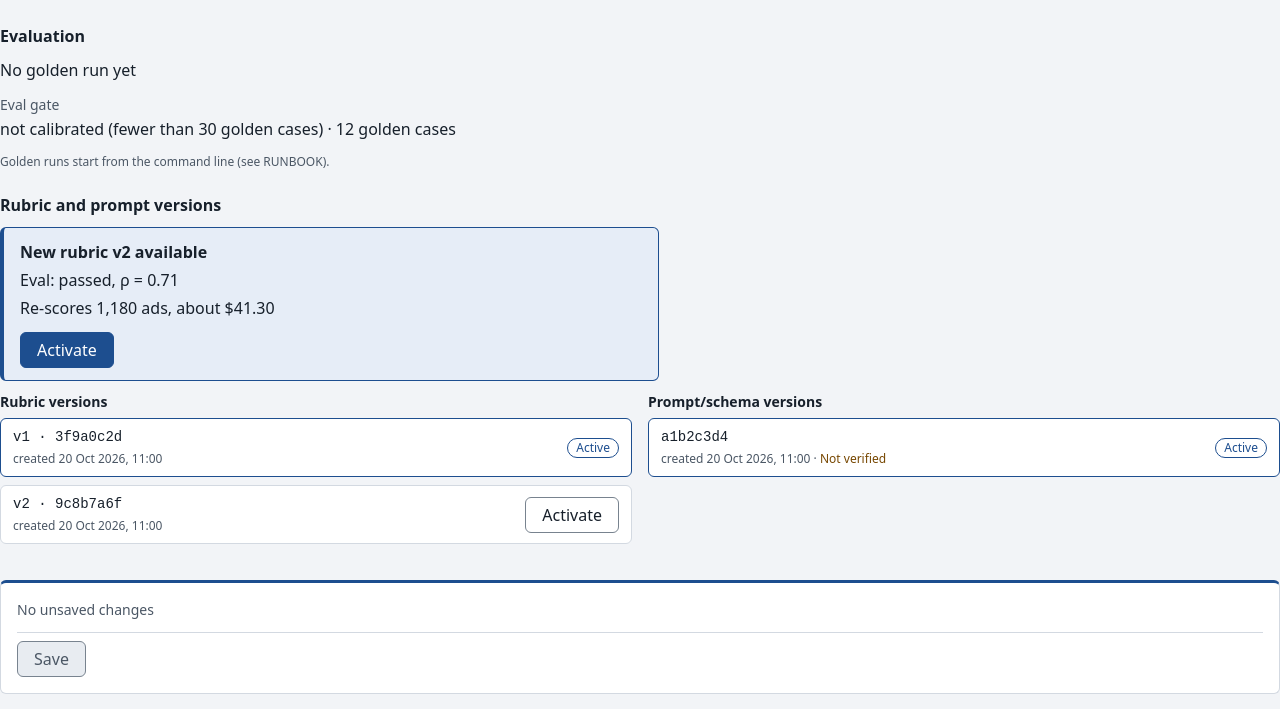
VersionsPanel › Activate shows the preview and posts a keyed activation with the ack
The image size is (1280, 709).
(page scrolled)
Click the button with aria-label "Activate rubric v2" at (67, 350), box [20,332,114,368]
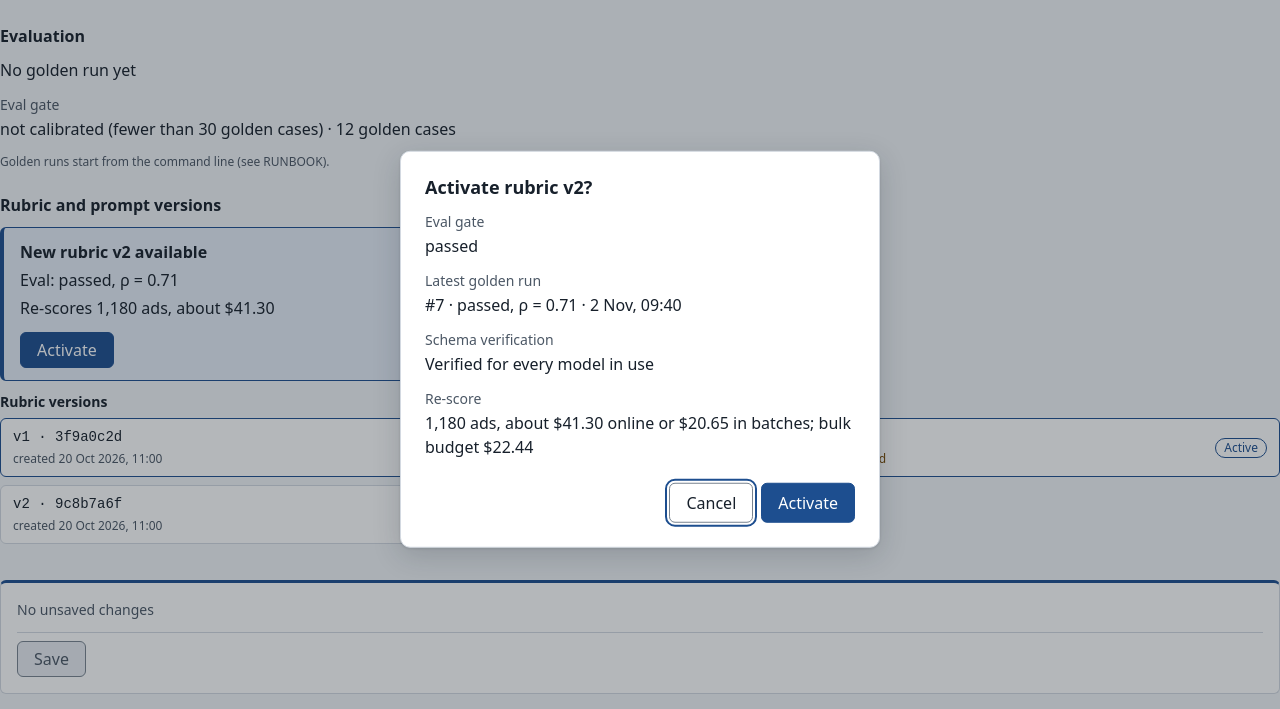
expect the dialog "Activate rubric v2?" shows "1,180 ads, about $41.30 online or $20.65 in batches; bulk budget $22.44": met, box [425,411,851,457]
expect the dialog "Activate rubric v2?" shows "passed": met, box [425,234,478,256]
expect the dialog "Activate rubric v2?" shows "#7 · passed, ρ = 0.71": met, box [425,293,682,315]
Click the button "Activate" at (808, 502), box [761,482,855,522]
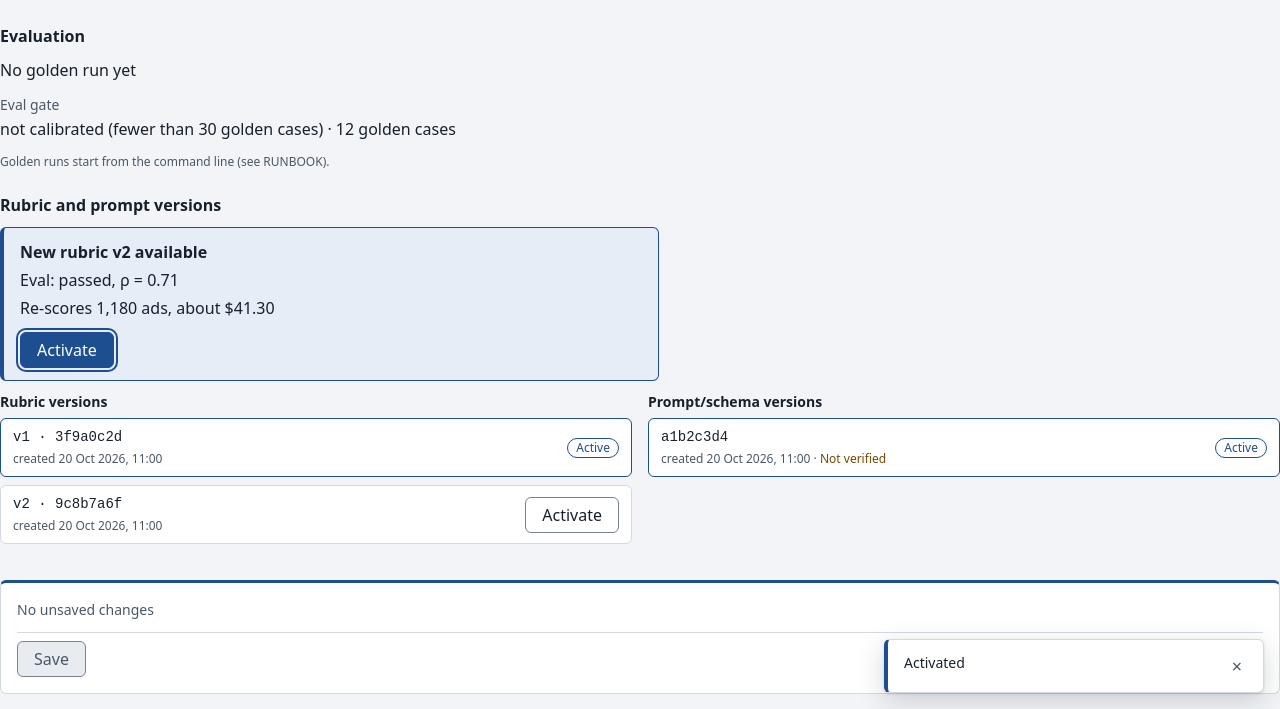
expect the text "Activated" is shown: met, box [904,653,965,672]
expect the dialog is gone: met
